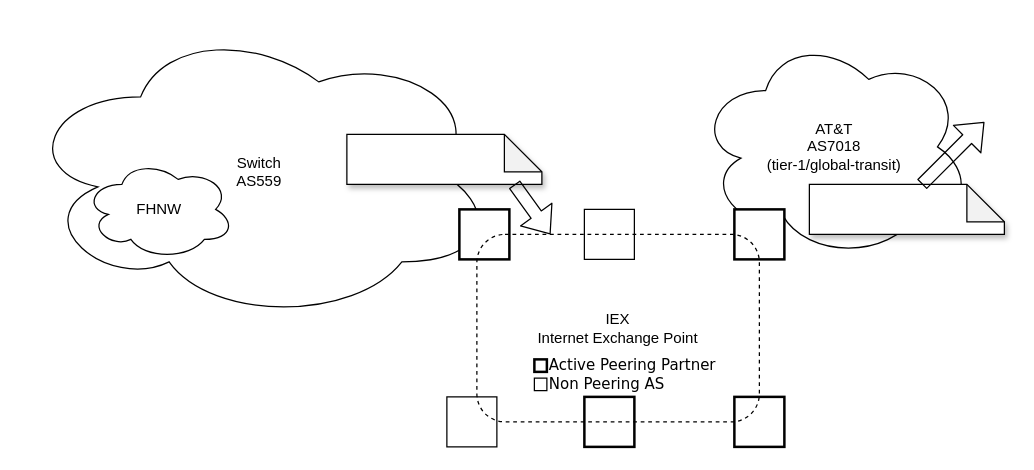
The diagram is 1034 pixels wide and 470 high, and some of its shapes have lost their labels. The centre of each missing label's shape, as x and y in pixels:
"Prefix: 147.86.0.0/16 AS-Path: 559 $ Next-Hop: ..." goes at point 445,160.
"Prefix: 147.86.0.0/16 AS-Path: 7018 559 $ Next-Hop: ..." goes at point 907,210.
